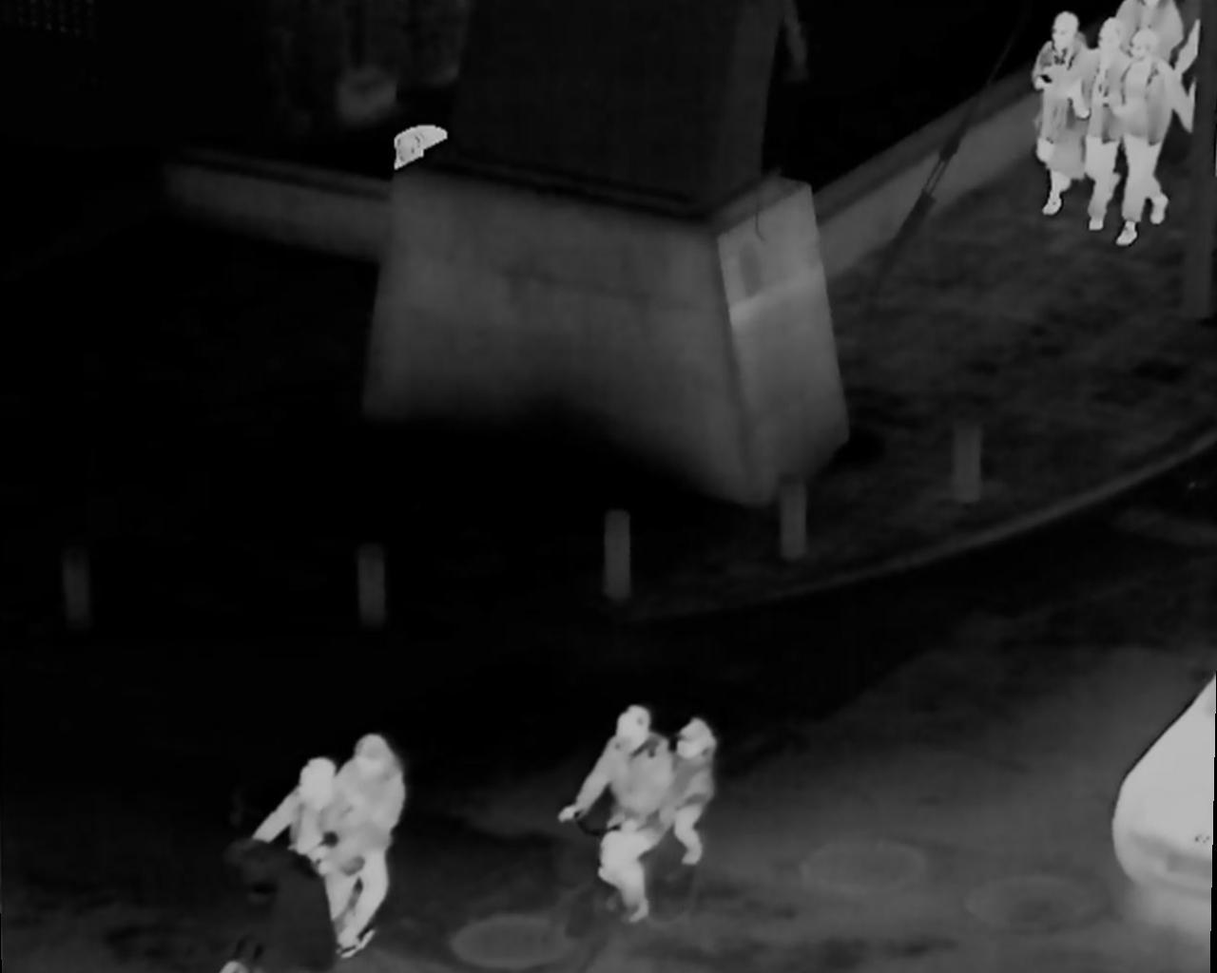person: (585, 706, 699, 911), (267, 760, 357, 934), (1071, 4, 1138, 230), (652, 709, 729, 865), (336, 736, 394, 933), (1037, 18, 1088, 207)
